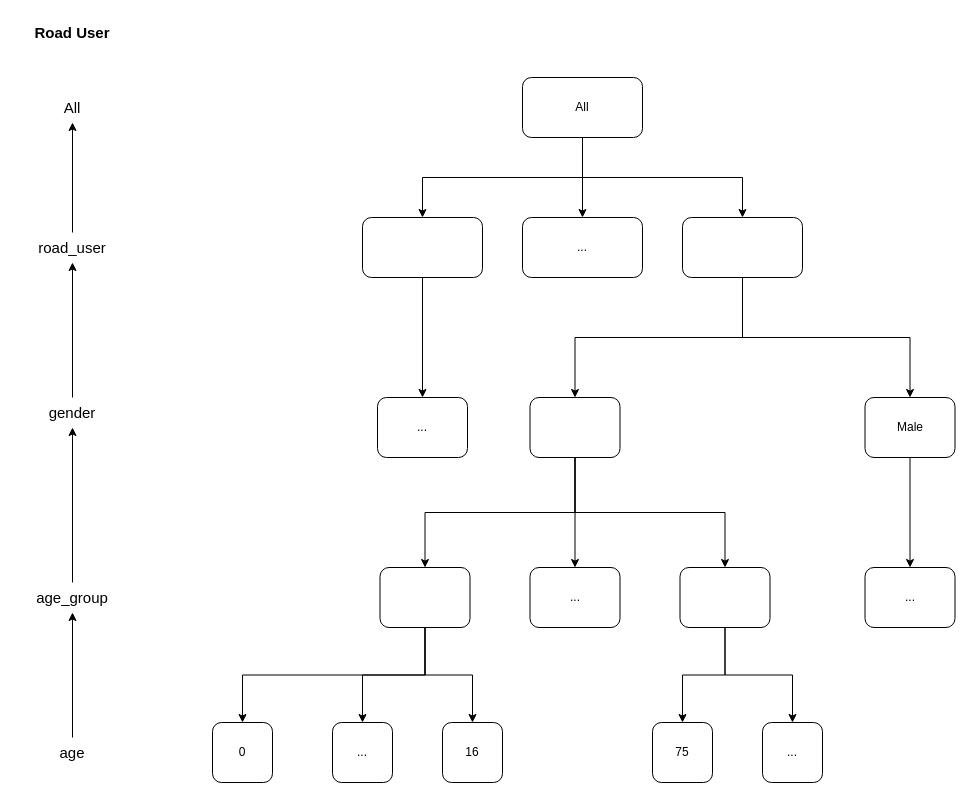
The diagram is 972 pixels wide and 800 high, and some of its shapes have lost their labels. The shapes that lost their labels are listed below. From the top down, each one's centre as x and y in pixels, then its label:
[422,247]: Pedestrian
[742,247]: Driver
[574,427]: Female
[424,597]: 0_to_16
[724,597]: 75_or_older
